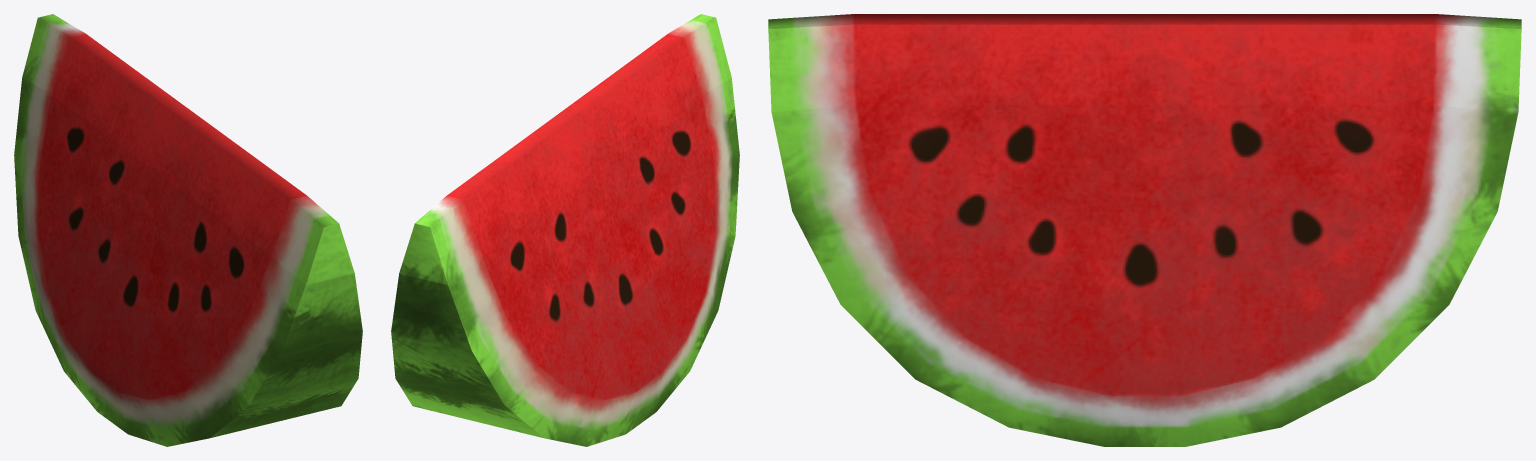
File: Watermelon.fbx
3 renders of one model, left to right at view 1: azimuth 30°, elevation 25°; view 2: azimuth 150°, elevation 25°; view 3: azimuth 270°, elevation 25°, orthographic. The views are drawn at different scales.
Parts seen in each view (by area): view 1: Watermelon; view 2: Watermelon; view 3: Watermelon.
Boxes of the visible parts, x1,y1,x2,y2 form: Watermelon: (14,14,362,446); Watermelon: (391,14,739,446); Watermelon: (768,14,1521,446).
Bounding box in the file's own units: 0.9944 × 1.65 × 2.96.
